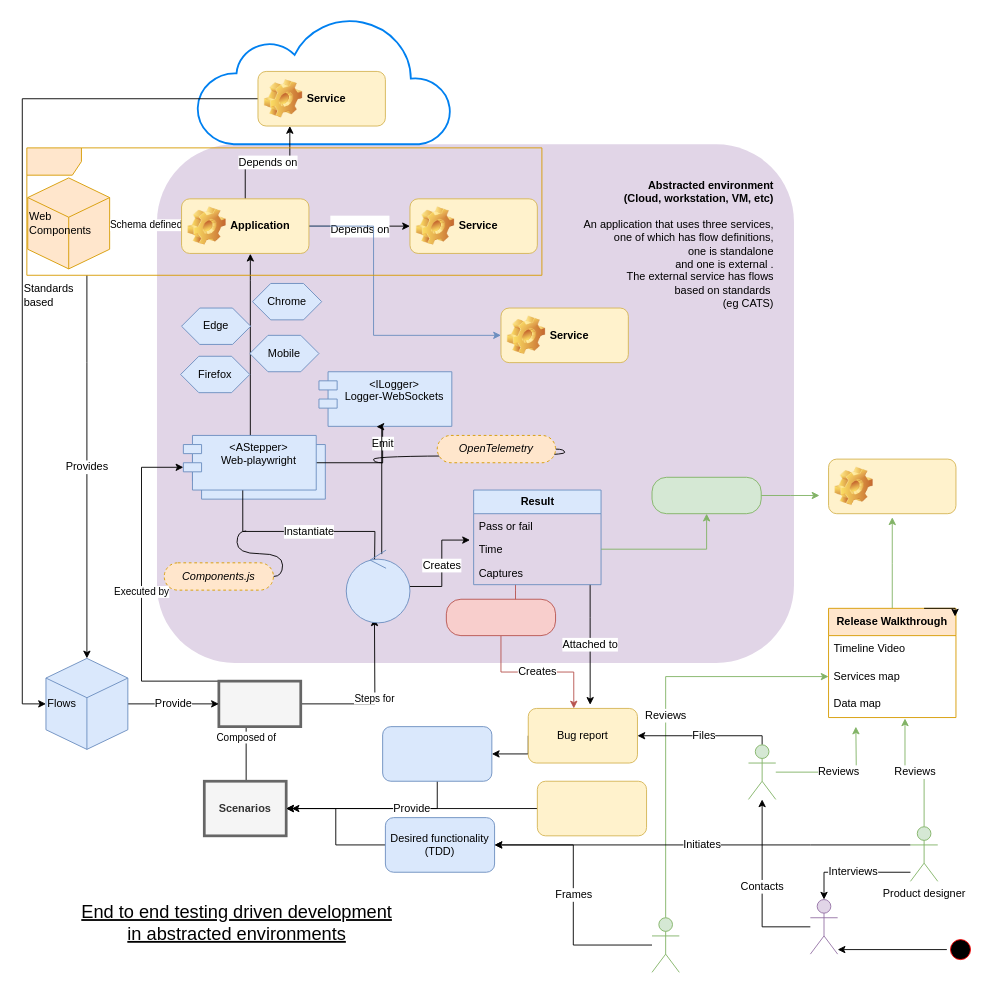
Image size: 990x1006. Some labels were removed from this diagram. The centre of each missing label's shape, as x and y in pixels:
"Application domain" goes at point (284, 211).
"Developer" goes at point (665, 944).
"End user" goes at point (823, 926).
"Executor" goes at point (377, 586).
"Fail" goes at point (500, 617).
"Feature statements" goes at point (259, 703).
"Pass" goes at point (706, 495).
"QA/Support" goes at point (762, 771).
"Regression" goes at point (437, 753).
"Release" goes at point (892, 486).
"Specifications & Standards" goes at point (591, 808).
